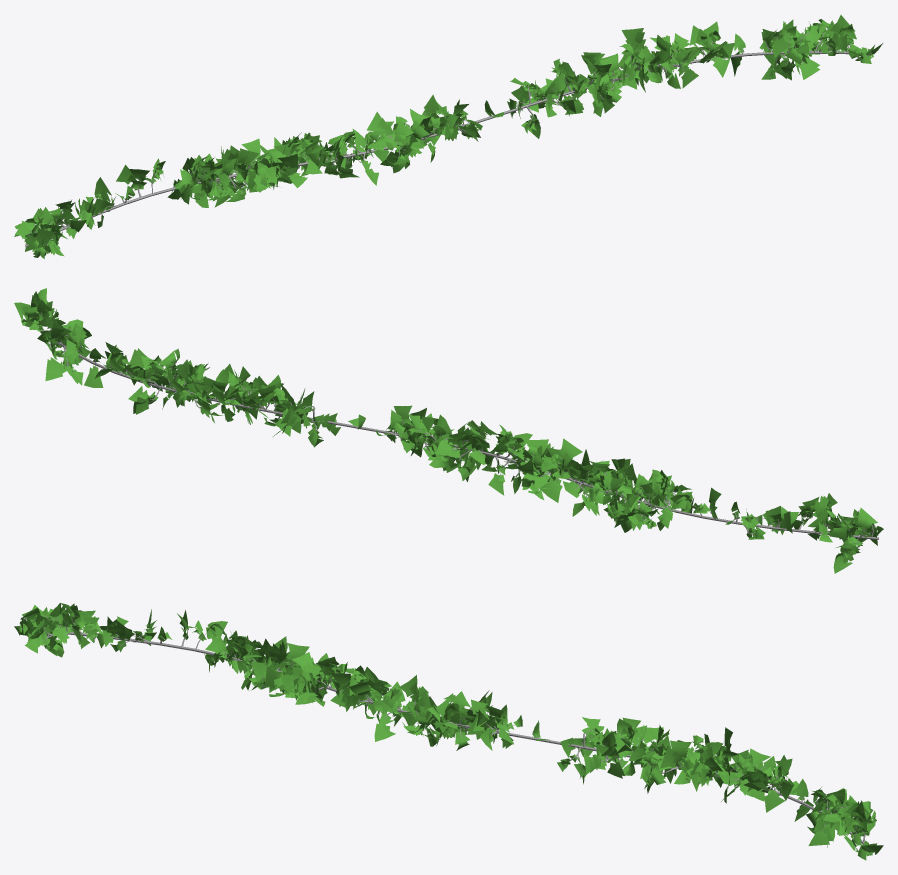
File: ivyStraight.fbx
3 renders of one model, top to bottom at view 1: azimuth 30°, elevation 25°; view 2: azimuth 150°, elevation 25°; view 3: azimuth 330°, elevation 25°, orthographic. The views are drawn at different scales.
Visible parts, largest first — view 1: ivyStraight_leaf, ivyStraight_stem, ivyStraight_vine; view 2: ivyStraight_leaf, ivyStraight_stem, ivyStraight_vine; view 3: ivyStraight_leaf, ivyStraight_stem, ivyStraight_vine.
Boxes of the visible parts, x1,y1,x2,y2 form: ivyStraight_leaf: (14,15,882,258); ivyStraight_stem: (29,28,871,247); ivyStraight_vine: (25,51,848,247); ivyStraight_leaf: (14,288,883,573); ivyStraight_stem: (31,311,874,557); ivyStraight_vine: (43,330,878,539); ivyStraight_leaf: (14,603,883,860); ivyStraight_stem: (23,612,868,850); ivyStraight_vine: (21,628,864,844).
Bounding box in the file's own units: 711 × 54.71 × 85.97.
